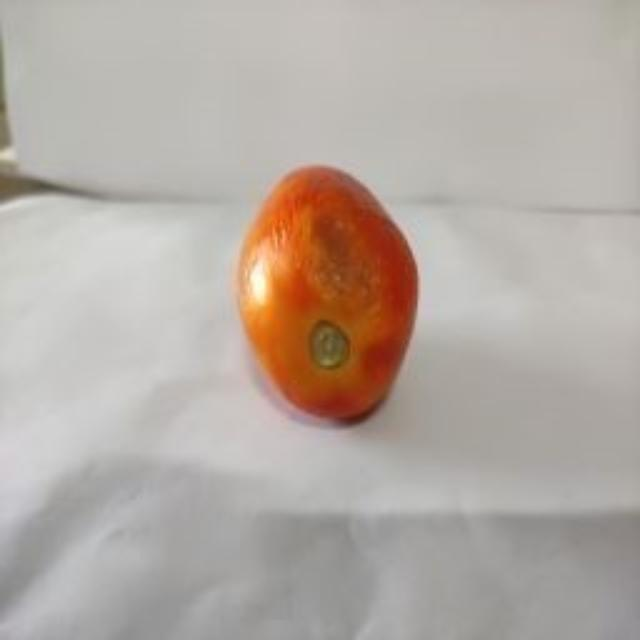defect: (230, 158, 433, 433)
